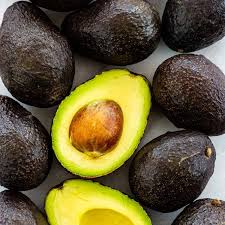avocado: (51, 68, 151, 178), (46, 180, 153, 225)
